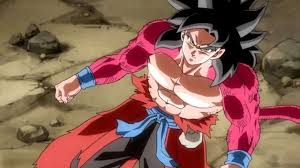Songoku: (176, 17, 242, 77)
